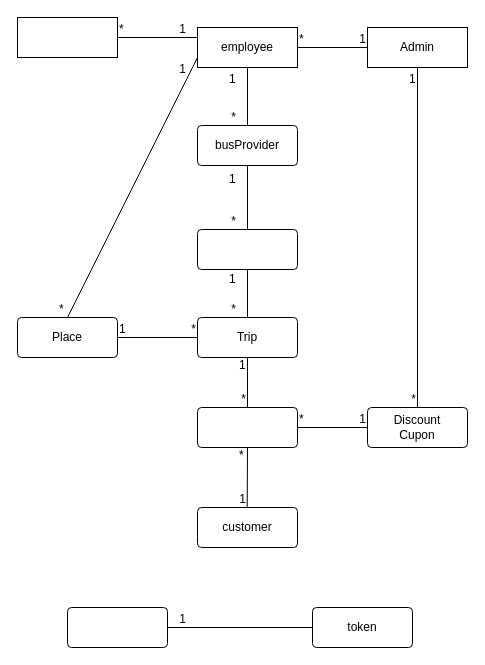
The diagram is 485 pixels wide and 665 high, and some of its shapes have lost their labels. The shapes that lost their labels are listed below. From the top down, each one's centre as x and y in pixels, then its label:
the point at 67,37: Notice
the point at 247,249: Bus
the point at 247,427: Ticket
the point at 117,627: user
